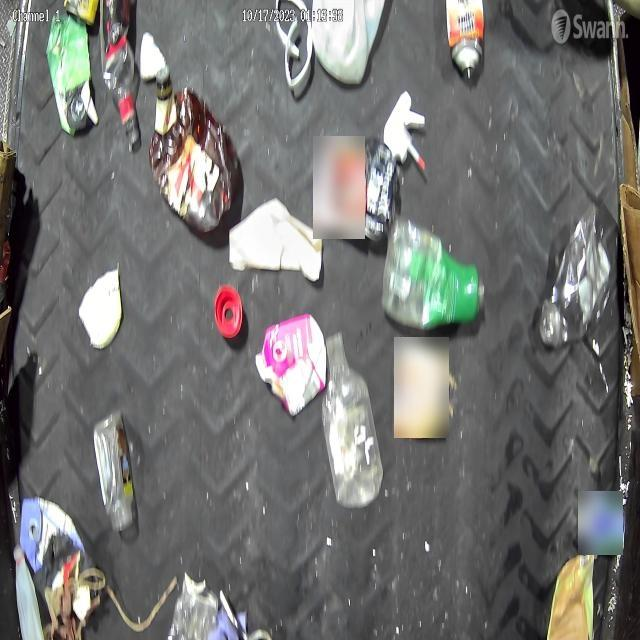milk_jug: (12, 544, 45, 640)
plastic_bottle: (539, 202, 611, 347), (322, 333, 382, 507), (92, 410, 135, 532)
